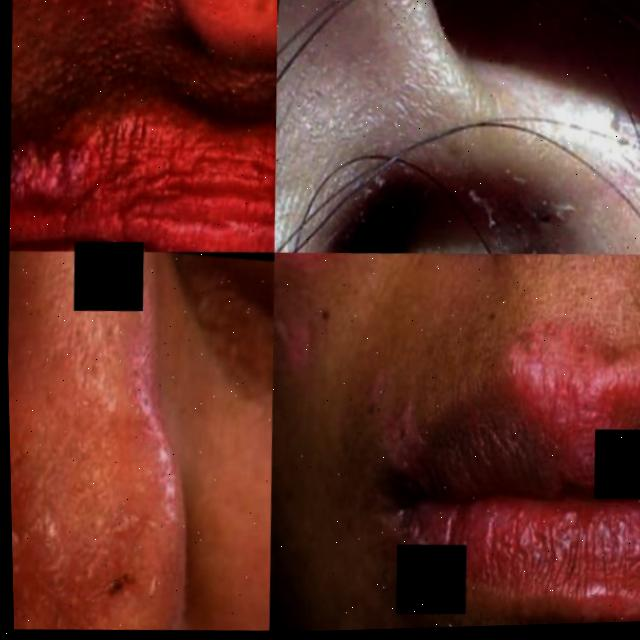lupus-detected: (297, 297, 640, 631), (3, 39, 280, 260), (8, 357, 212, 635), (268, 248, 402, 394)
